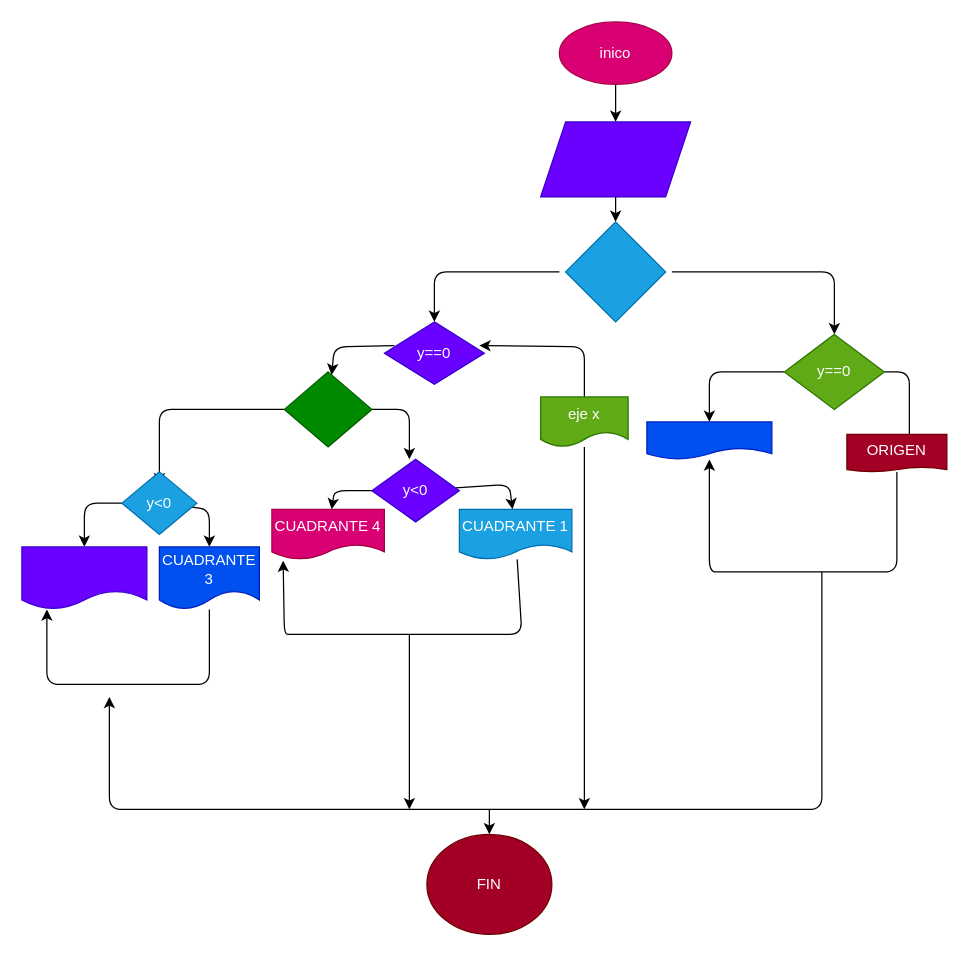
The diagram is 969 pixels wide and 956 high, and some of its shapes have lost their labels. The shapes that lost their labels are listed below. From the top down, each one's centre as x and y in pixels, then its label:
(615,159): x,y
(615,271): x==0
(327,409): x>0
(709,440): eje y
(84,577): CUADRANTE 2
